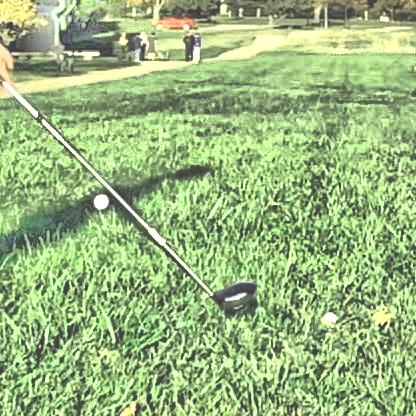golfball: (88, 188, 109, 207)
